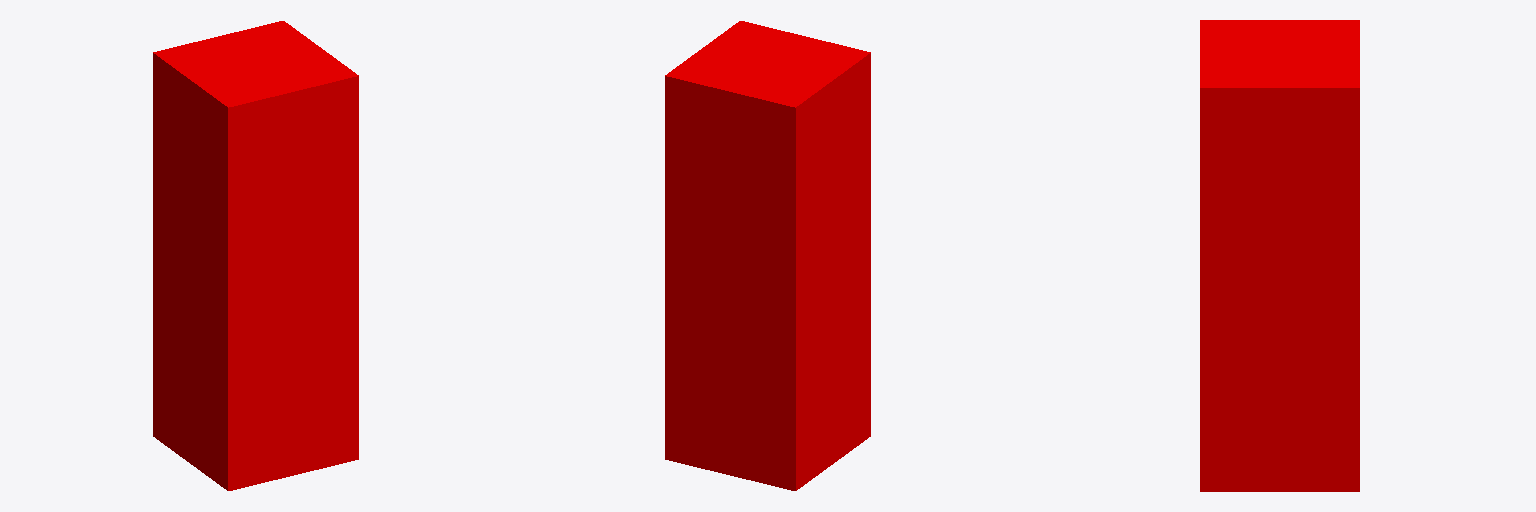
robot.urdf — stick:
<?xml version="1.0" ?>
<robot name="stick">
  <link name="baseLink">
    <contact>
      <lateral_friction value="1.0"/>
      <rolling_friction value="1.0"/>
      <spinning_friction value="1.0"/>
      <!--contact_cfm value="0.0"/-->
      <!--contact_erp value="1.0"/-->
    </contact>
    <inertial>
      <origin rpy="0 0 0" xyz="0 0 0"/>
       <mass value="1.0"/>
       <inertia ixx="1" ixy="0" ixz="0" iyy="1" iyz="0" izz="1"/>
    </inertial>
    <visual>
      <origin rpy="0 0 0" xyz="0 0 0"/>
      <geometry>
				<box size="0.025 0.025 0.07"/>
      </geometry>
       <material name="red">
        <color rgba="1 0 0 1"/>
      </material>
    </visual>
    <collision>
      <origin rpy="0 0 0" xyz="0 0 0"/>
      <geometry>
	 	  <box size="0.025 0.025 0.07"/>
      </geometry>
    </collision>
  </link>
</robot>

--- Render facts (derived) ---
The picture shows the robot from 3 angles, left to right: view 1: azimuth 30°, elevation 25°; view 2: azimuth 150°, elevation 25°; view 3: azimuth 270°, elevation 25°; orthographic projection.
Model stick with 1 links and 0 joints (none), rooted at baseLink, posed all joints at 0.
Visible links, largest first — view 1: baseLink; view 2: baseLink; view 3: baseLink.
Link boxes in pixels (x1,y1,x2,y2): baseLink: (153,21,358,490); baseLink: (665,21,870,490); baseLink: (1200,20,1359,491).
Size in the robot's own frame: 0.025 by 0.025 by 0.07 metres.
Geometry: primitives only (box / cylinder / sphere), no mesh files.
